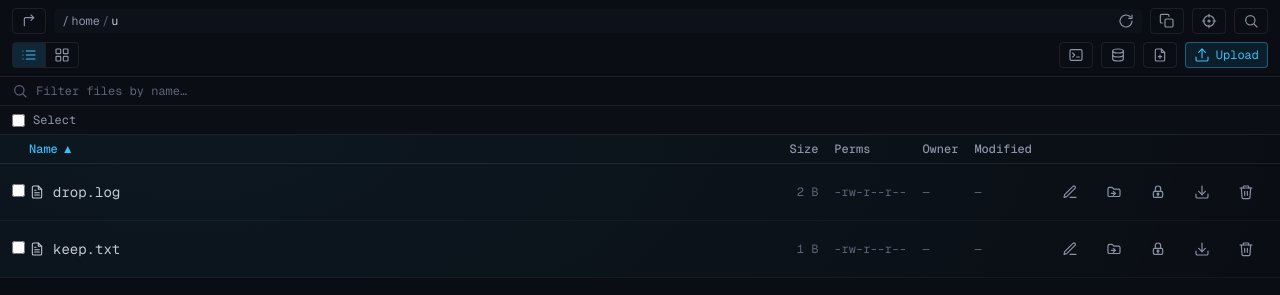
Test: FileBrowser selection › select-all only acts on the filtered rows
Type "keep" into the field labelled "Filter files by name".
click(652, 91); type("keep")  # box [36,83,1268,99]
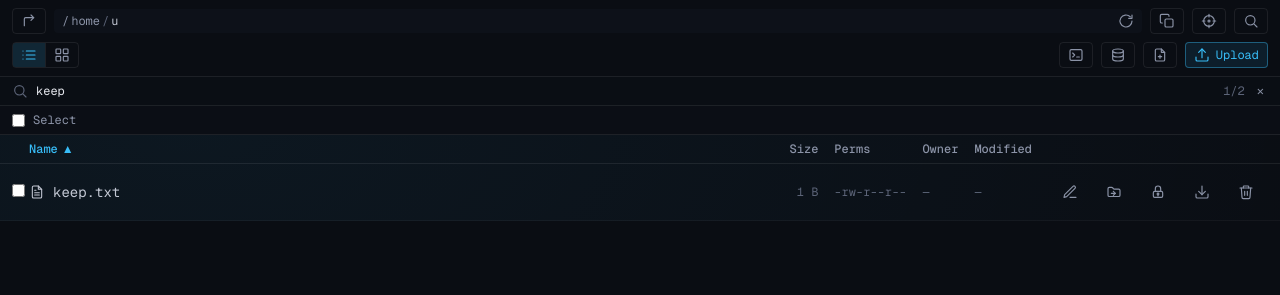
Click the checkbox named "Select all".
click(18, 120)  # box [12,114,25,126]
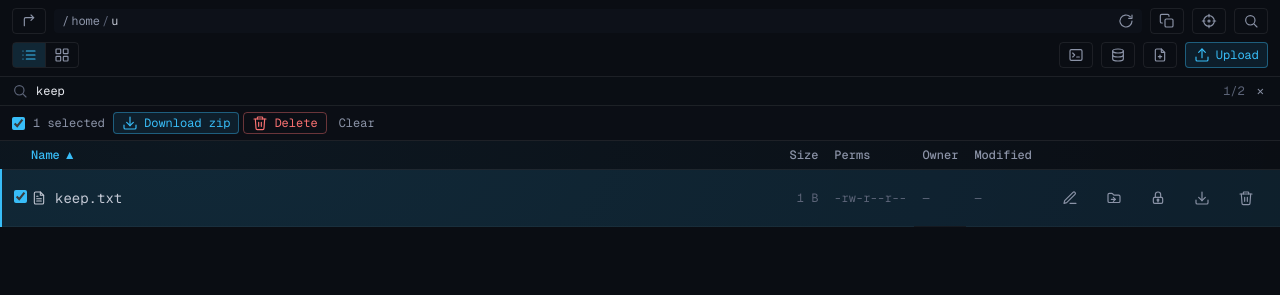
expect the checkbox named "Select keep.txt" is checked: met, box [14,190,27,203]
